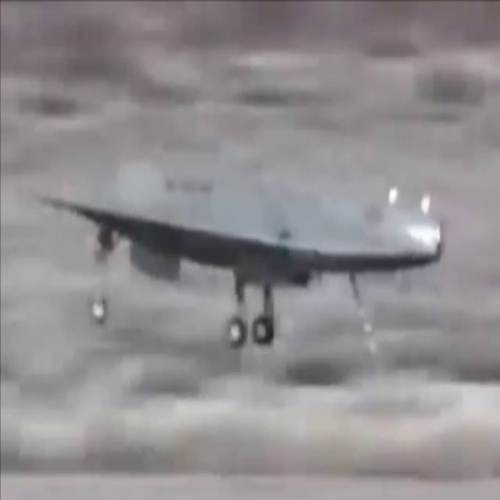uav993: (36, 153, 445, 351)
